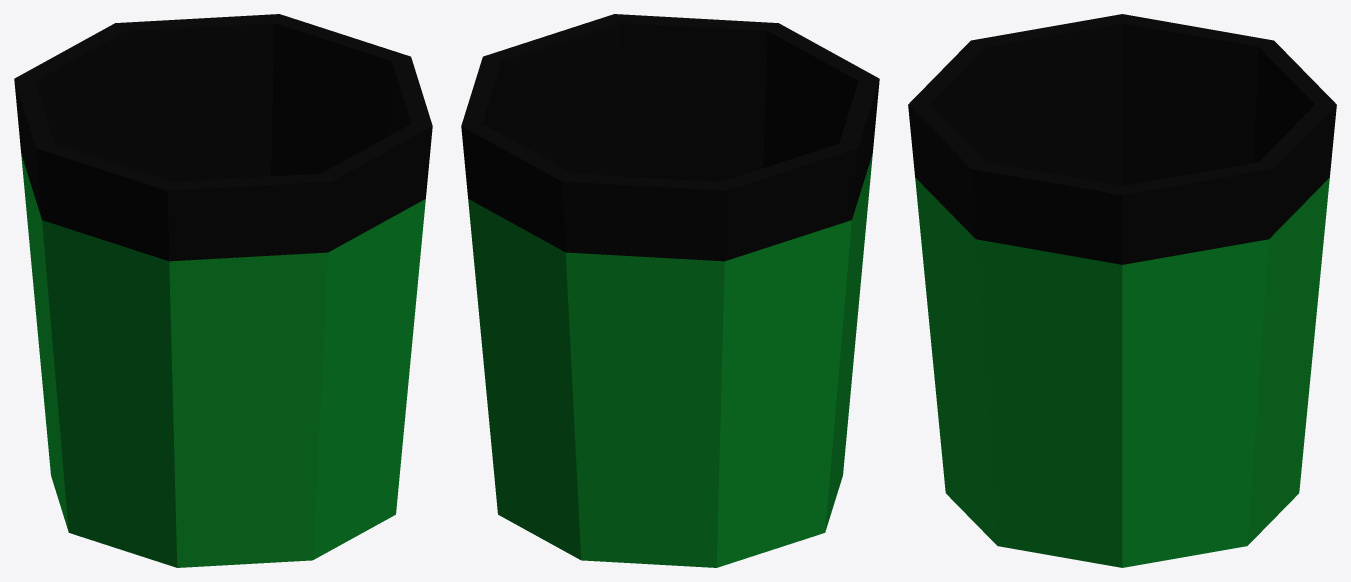
The model's file is trashbin.fbx.
3 renders of one model, left to right at view 1: azimuth 30°, elevation 25°; view 2: azimuth 150°, elevation 25°; view 3: azimuth 270°, elevation 25°, orthographic.
Visible parts, largest first — view 1: Trashbin; view 2: Trashbin; view 3: Trashbin.
Boxes of the visible parts, <box> form: Trashbin: <box>14,14,432,567</box>; Trashbin: <box>461,14,879,567</box>; Trashbin: <box>908,14,1336,567</box>.
Bounding box in the file's own units: 200 × 200 × 200.
